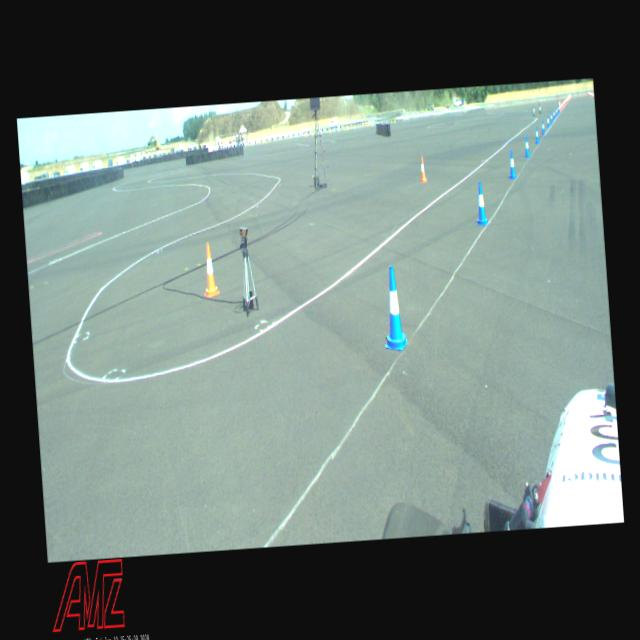blue_cone: (379, 264, 408, 352), (472, 180, 488, 226), (506, 149, 516, 180), (522, 134, 530, 157), (534, 125, 540, 144), (540, 118, 545, 134), (546, 114, 550, 128), (549, 112, 553, 124), (554, 106, 558, 117), (552, 110, 555, 120)
orange_cone: (200, 242, 220, 298), (417, 156, 427, 181)
